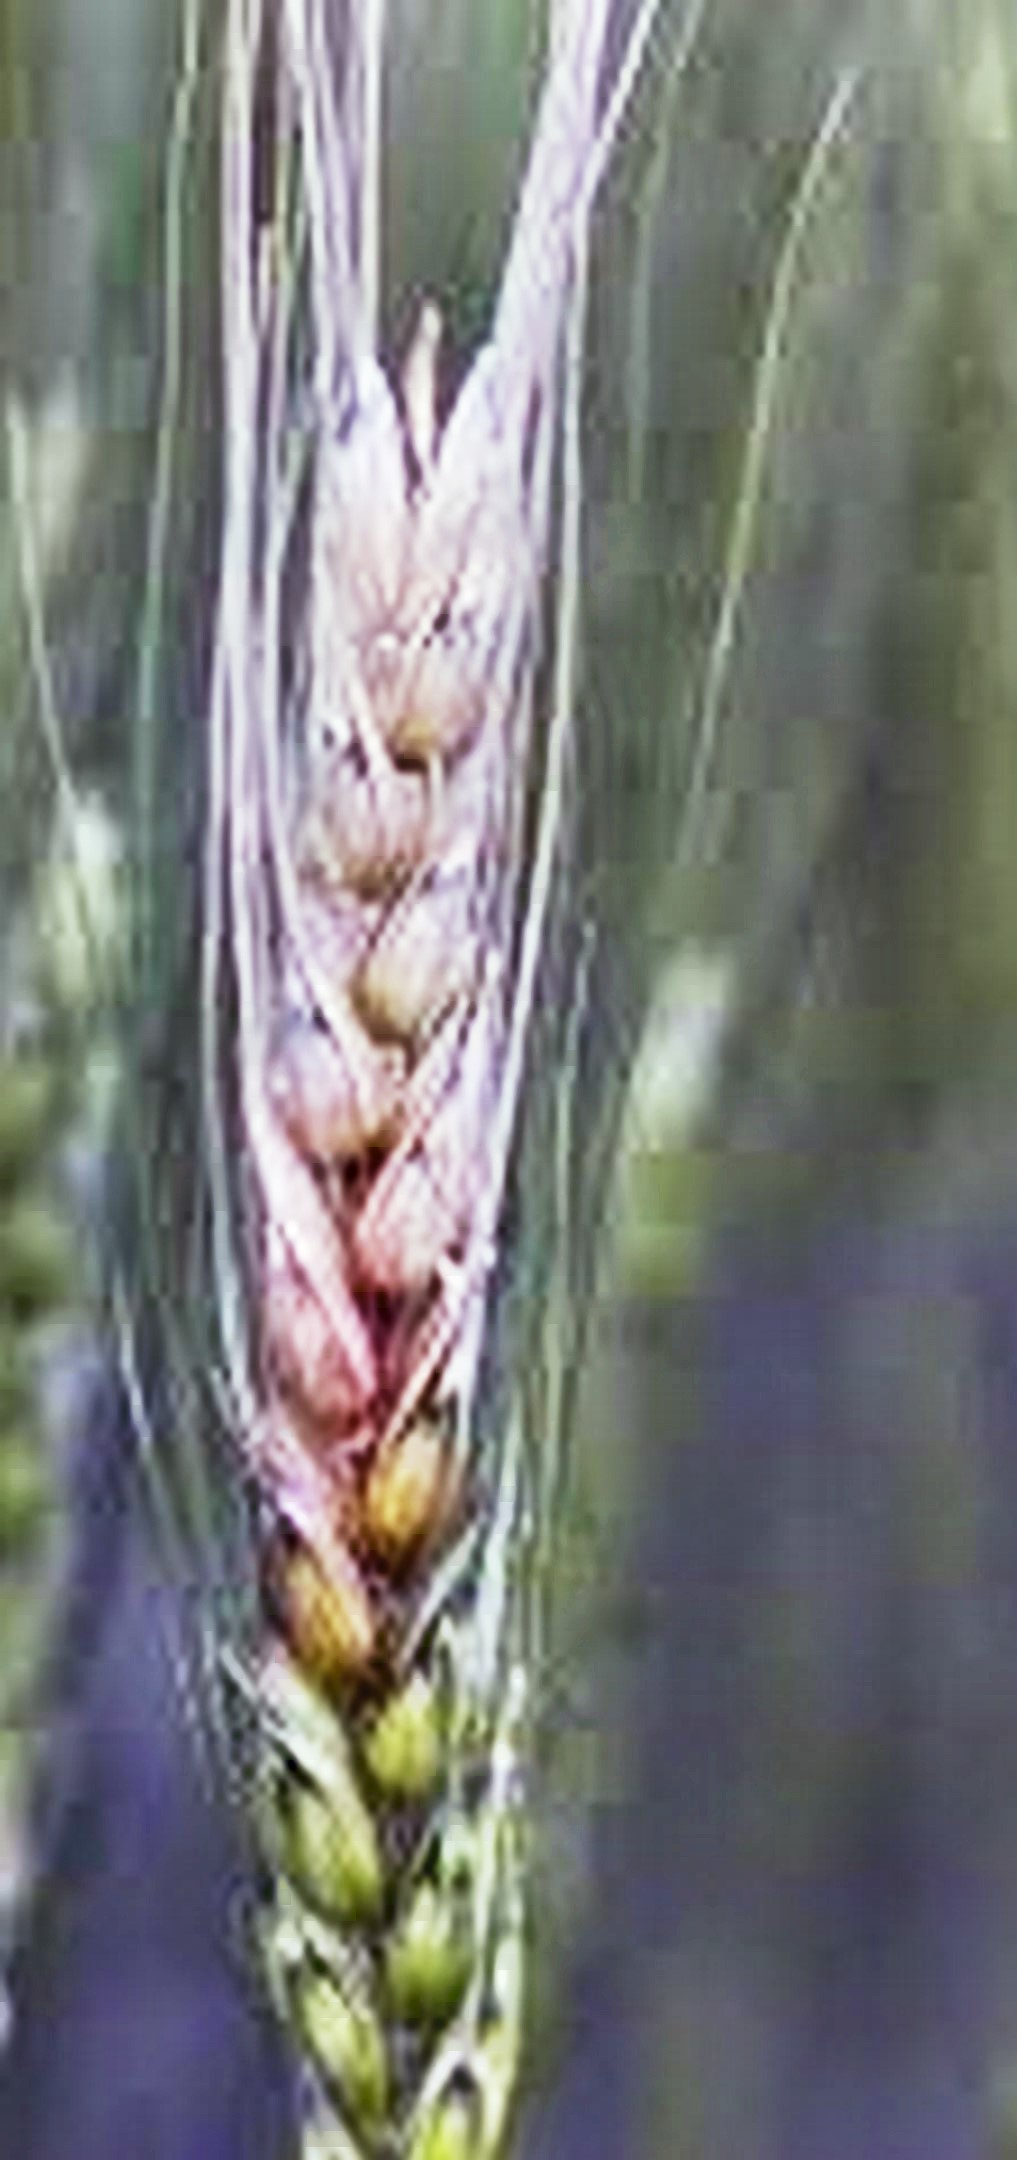Wheat scab: (197, 320, 593, 2132)
